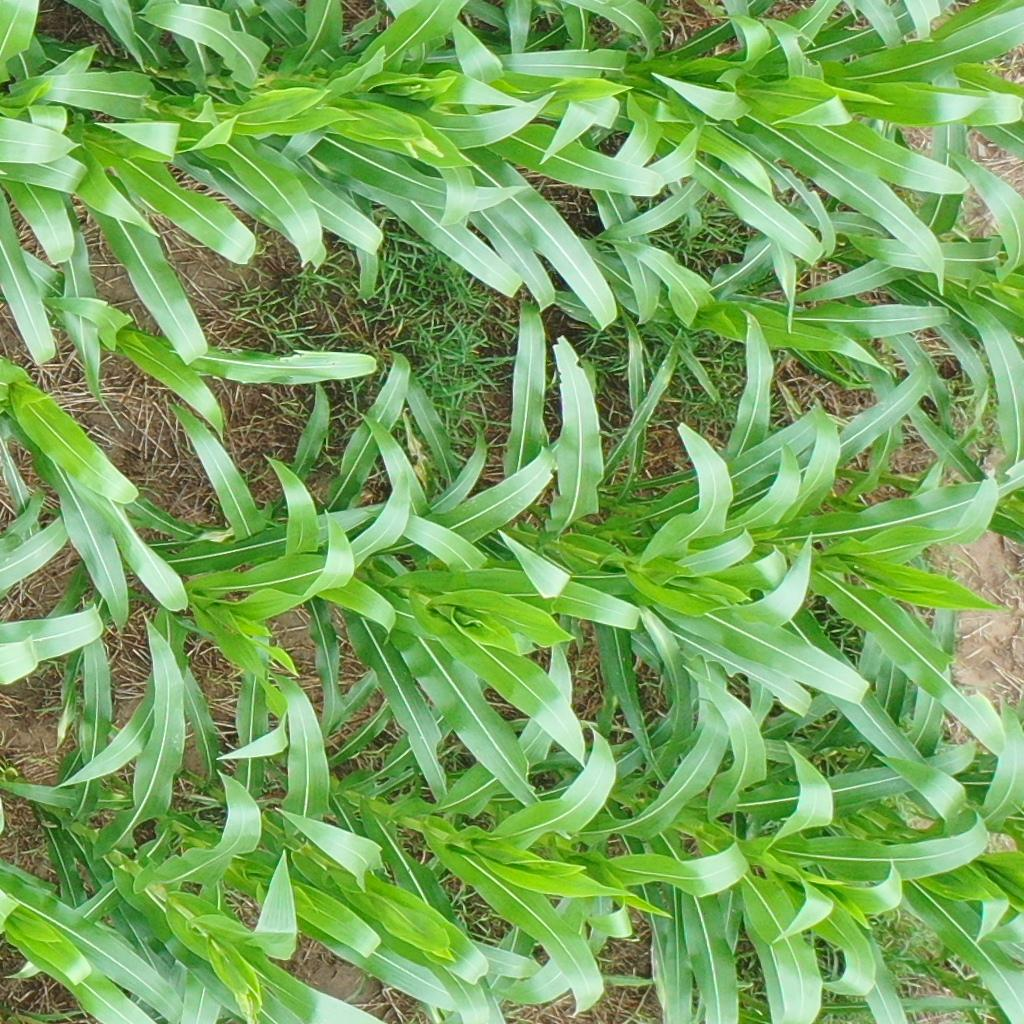Tassel: (402, 131, 448, 164), (234, 985, 260, 1024)
